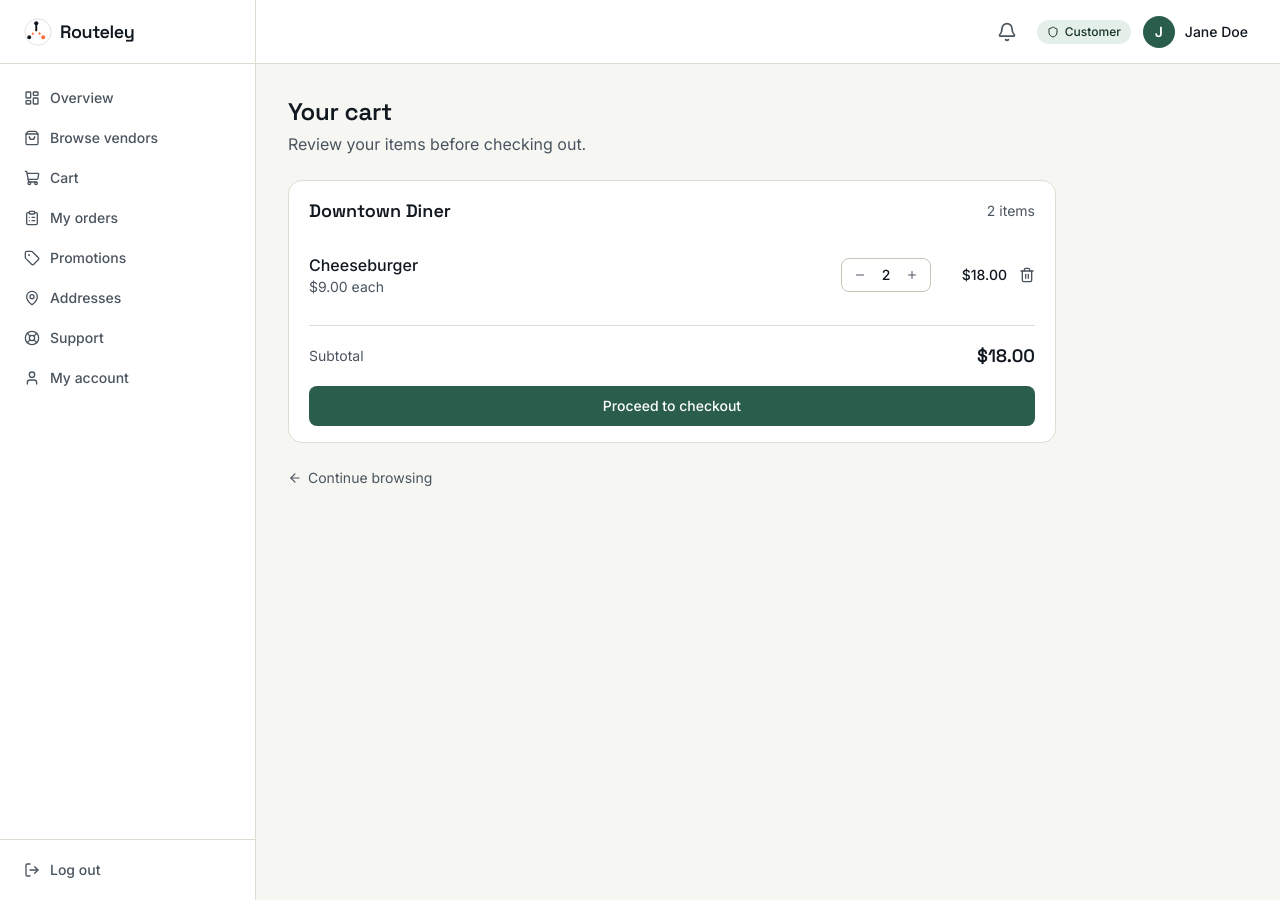
it: CartPage - critical customer purchase flow › shows an error toast when updating the cart fails
Expected: the text "Cheeseburger" is shown, top-left (309, 255), bottom-right (418, 275)
Click the button named "Increase quantity" at (912, 275), box top-left (900, 263), bottom-right (924, 287)
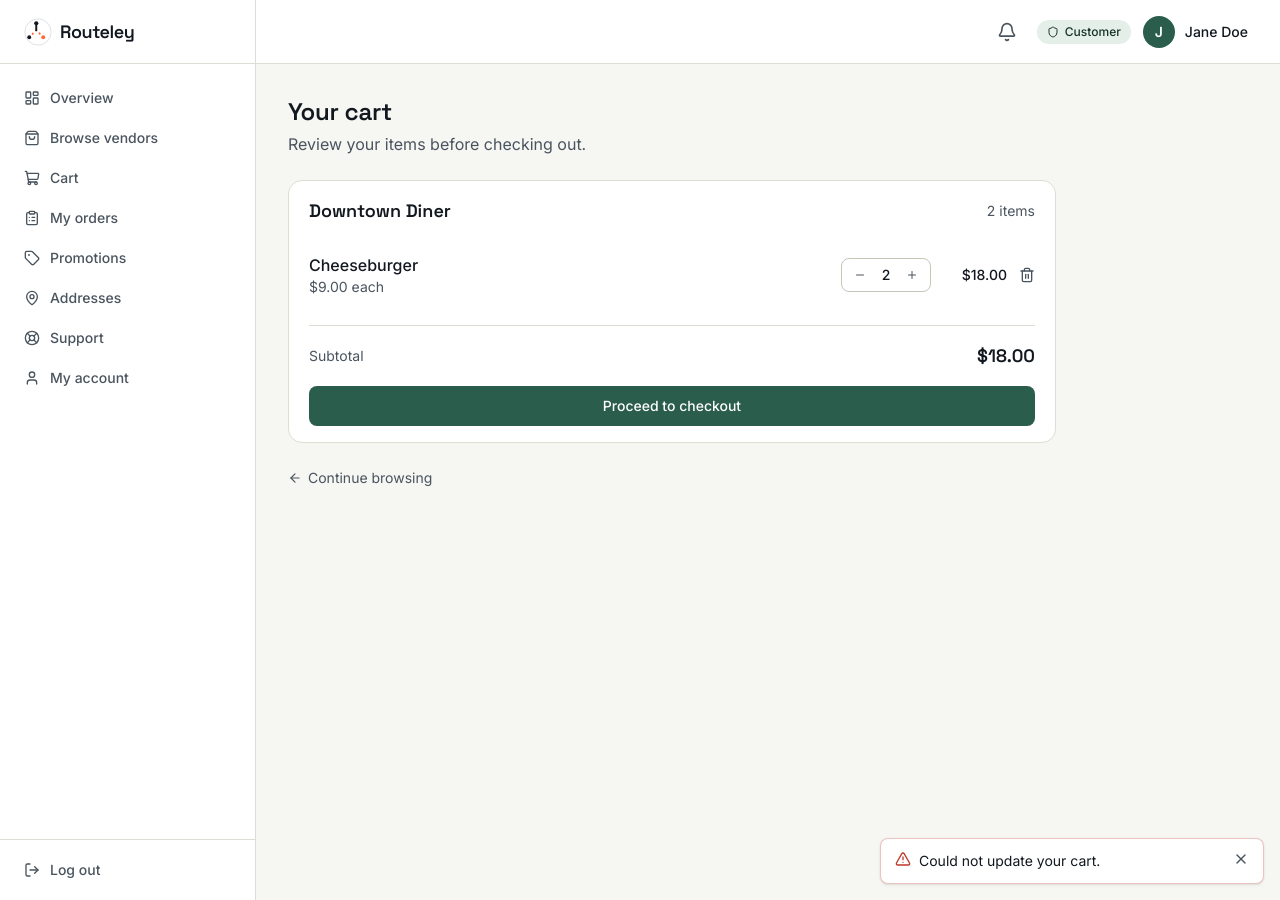
Now the text "Could not update your cart." is shown, box top-left (919, 852), bottom-right (1100, 869)
